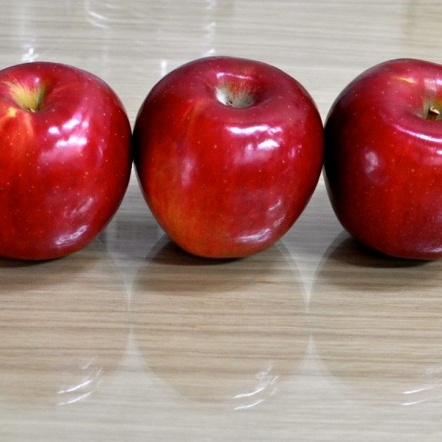apple: (129, 56, 320, 258), (316, 55, 442, 271), (1, 62, 134, 260)
